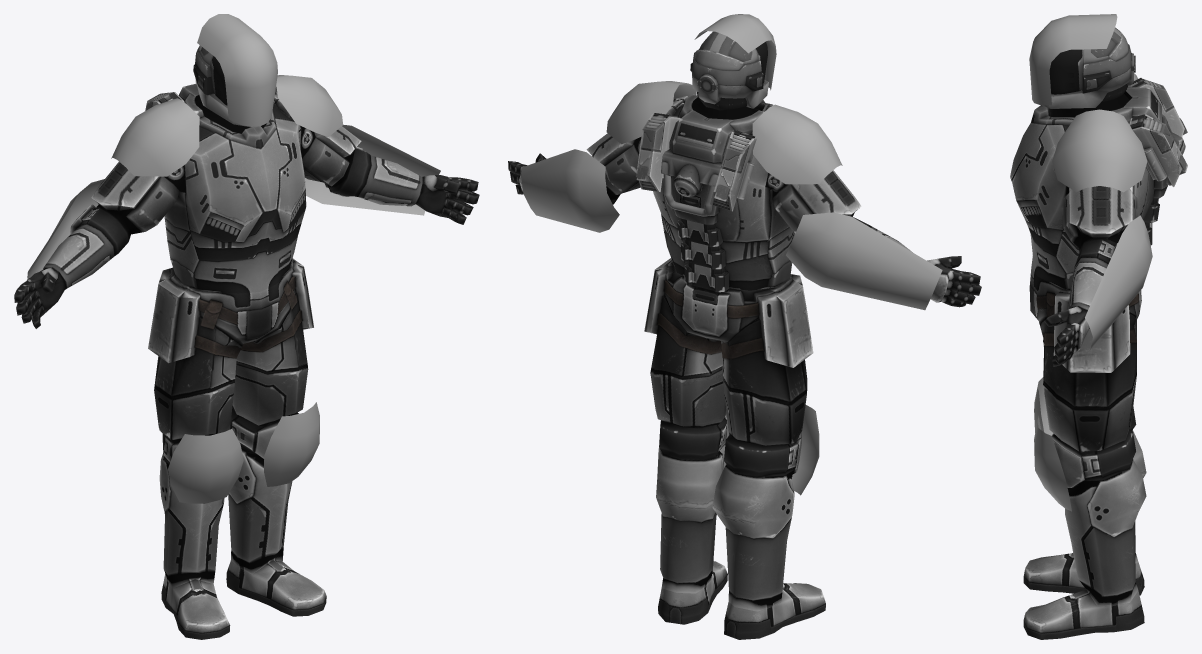
The model's file is Hero_Armor_3.fbx.
3 renders of one model, left to right at view 1: azimuth 30°, elevation 25°; view 2: azimuth 150°, elevation 25°; view 3: azimuth 270°, elevation 25°, orthographic.
Parts seen in each view (by area): view 1: Hero_Armor_3_Torso, Hero_Armor_3_Legs, Hero_Armor_3_Helmet; view 2: Hero_Armor_3_Torso, Hero_Armor_3_Legs, Hero_Armor_3_Helmet; view 3: Hero_Armor_3_Legs, Hero_Armor_3_Torso, Hero_Armor_3_Helmet.
Boxes of the visible parts, x1=… form: Hero_Armor_3_Torso: x1=14, y1=75, x2=479, y2=328; Hero_Armor_3_Legs: x1=148, y1=258, x2=326, y2=639; Hero_Armor_3_Helmet: x1=193, y1=14, x2=277, y2=127; Hero_Armor_3_Torso: x1=508, y1=81, x2=981, y2=310; Hero_Armor_3_Legs: x1=644, y1=258, x2=825, y2=639; Hero_Armor_3_Helmet: x1=690, y1=14, x2=776, y2=110; Hero_Armor_3_Legs: x1=1023, y1=268, x2=1146, y2=639; Hero_Armor_3_Torso: x1=1010, y1=73, x2=1187, y2=366; Hero_Armor_3_Helmet: x1=1029, y1=14, x2=1135, y2=108.
Bounding box in the file's own units: 2.05 × 2.44 × 0.6685.
